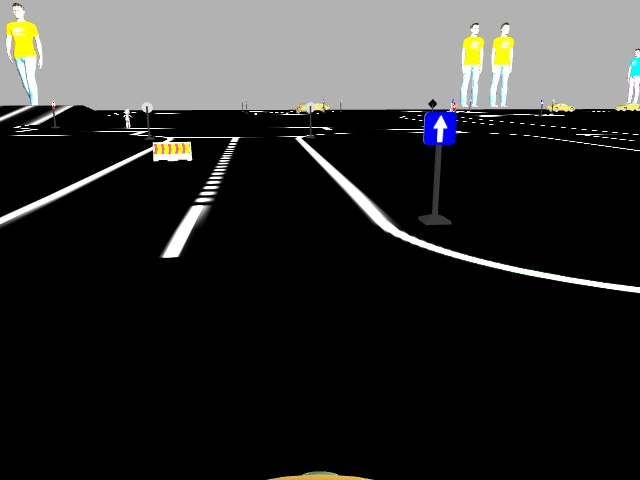ClosedRoadStand: (153, 143, 191, 159)
OneWay: (423, 113, 455, 143)
